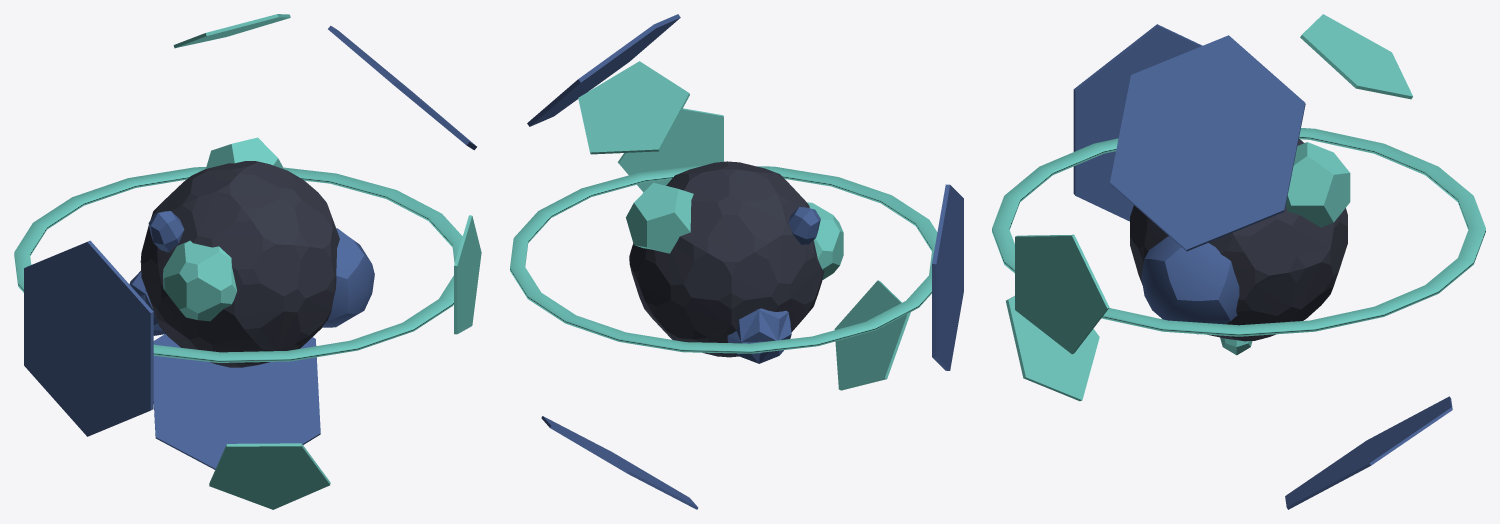
The model's file is Defence_Enemy_Test02.fbx.
3 renders of one model, left to right at view 1: azimuth 30°, elevation 25°; view 2: azimuth 150°, elevation 25°; view 3: azimuth 270°, elevation 25°, orthographic. The views are drawn at different scales.
Parts seen in each view (by area): view 1: pPlatonic6, pCylinder8, pCylinder3, pCylinder2, pCylinder6, pPlatonic2, pPlatonic3, pCylinder7, pPlatonic1, pCylinder1, pPlatonic4, pCylinder5; view 2: pPlatonic6, pCylinder2, pCylinder5, pCylinder8, pCylinder6, pCylinder7, pPlatonic1, pCylinder1, pPlatonic5, pCylinder3, pPlatonic2, pPlatonic4; view 3: pCylinder1, pPlatonic6, pCylinder2, pCylinder8, pCylinder7, pPlatonic3, pCylinder5, pCylinder6, pPlatonic1, pCylinder3.
Part boxes in pixels (x1,y1,x2,y2): pPlatonic6: (140,161,339,367); pCylinder8: (24,240,153,436); pCylinder3: (153,334,320,469); pCylinder2: (14,167,462,362); pCylinder6: (209,443,330,509); pPlatonic2: (163,240,236,321); pPlatonic3: (322,228,374,327); pCylinder7: (454,215,481,334); pPlatonic1: (206,137,283,168); pCylinder1: (328,25,476,150); pPlatonic4: (148,211,184,251); pCylinder5: (173,14,290,48); pPlatonic6: (629,161,824,357); pCylinder2: (510,165,937,353); pCylinder5: (578,61,689,154); pCylinder8: (932,184,963,370); pCylinder6: (834,280,910,390); pCylinder7: (618,108,723,192); pPlatonic1: (626,182,693,253); pCylinder1: (527,14,680,126); pPlatonic5: (727,308,791,363); pCylinder3: (541,416,698,509); pPlatonic2: (807,202,843,280); pPlatonic4: (788,207,820,244); pCylinder1: (1110,35,1305,251); pPlatonic6: (1130,139,1347,341); pCylinder2: (992,128,1485,336); pCylinder8: (1073,24,1202,221); pCylinder7: (1015,234,1109,354); pPlatonic3: (1141,236,1239,334); pCylinder5: (1300,14,1412,99); pCylinder6: (1006,296,1099,401); pPlatonic1: (1286,142,1350,227); pCylinder3: (1285,396,1452,509).
Bounding box in the file's own units: 215 × 222 × 200.
Materials: 1 (1 with a texture image).
